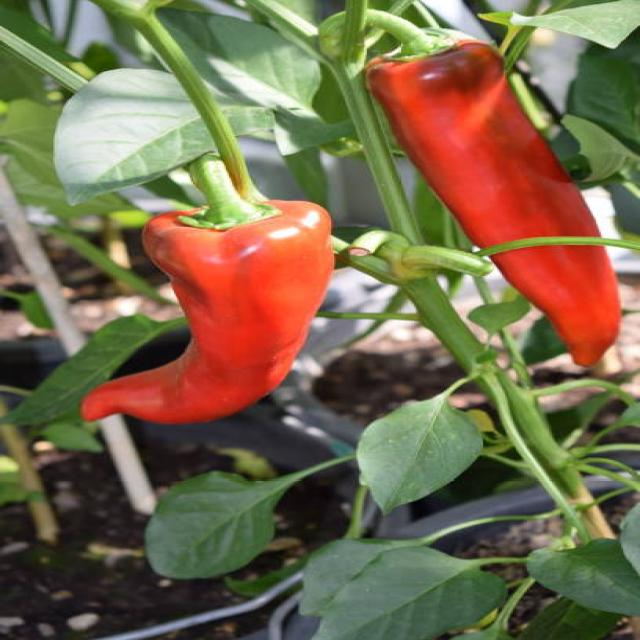Ripe: (362, 40, 623, 370), (75, 200, 339, 428)
